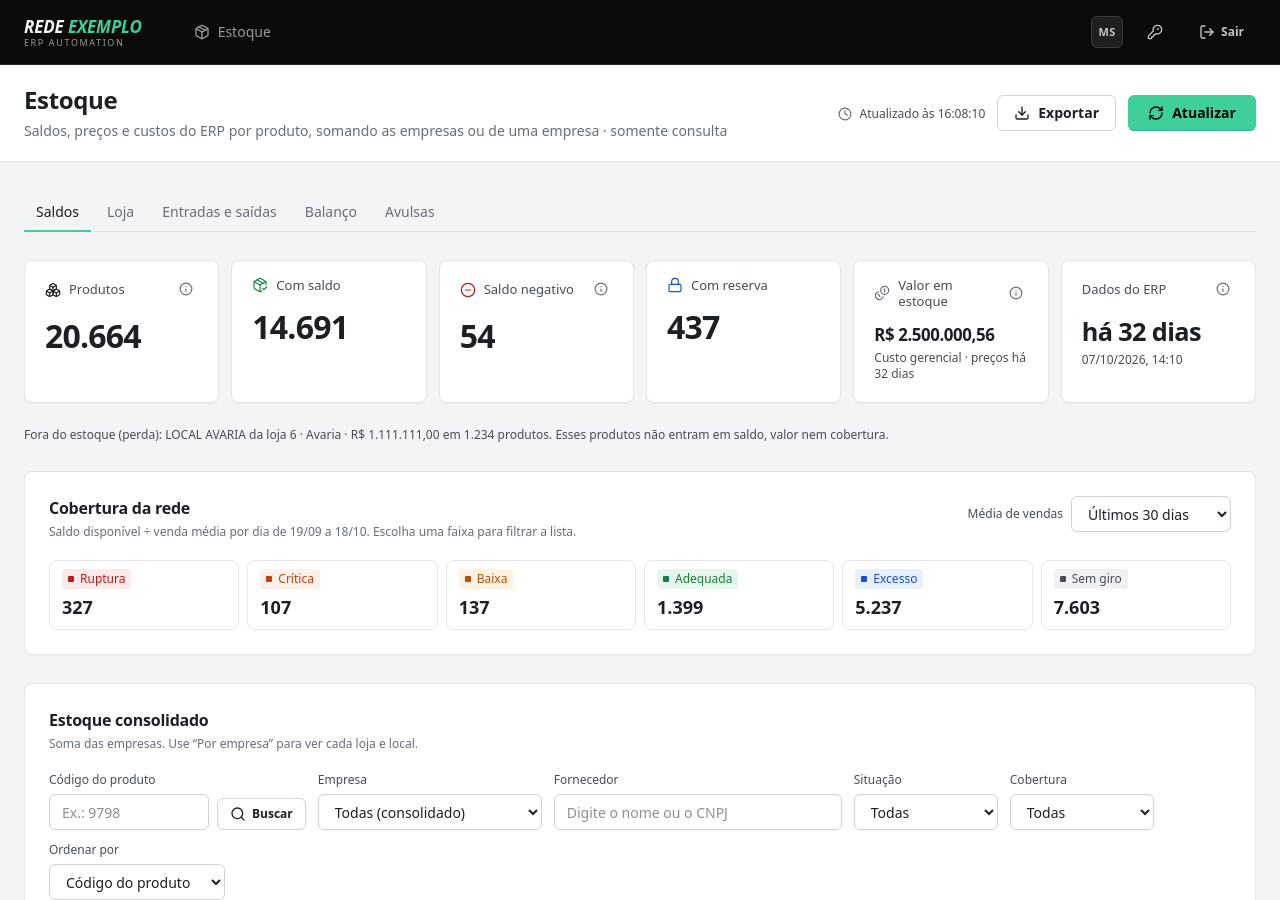
Test: EstoquePage › filtra pelo fornecedor escolhido na lista, pelo CNPJ
The width and height of the screenshot is (1280, 900).
Type "FORNEC" into the search field labelled "Fornecedor" at (698, 812), box [554, 794, 842, 830]
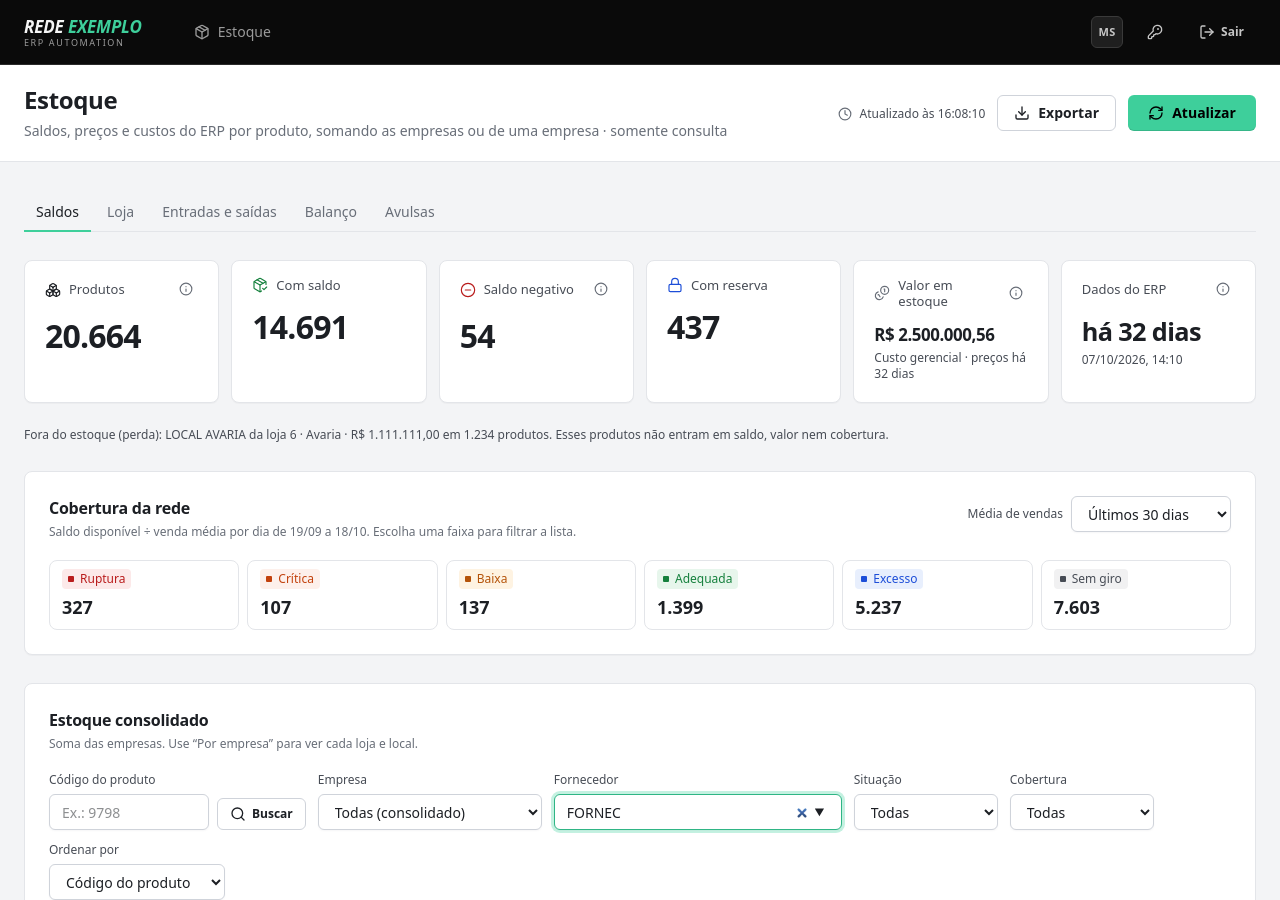
Press Tab
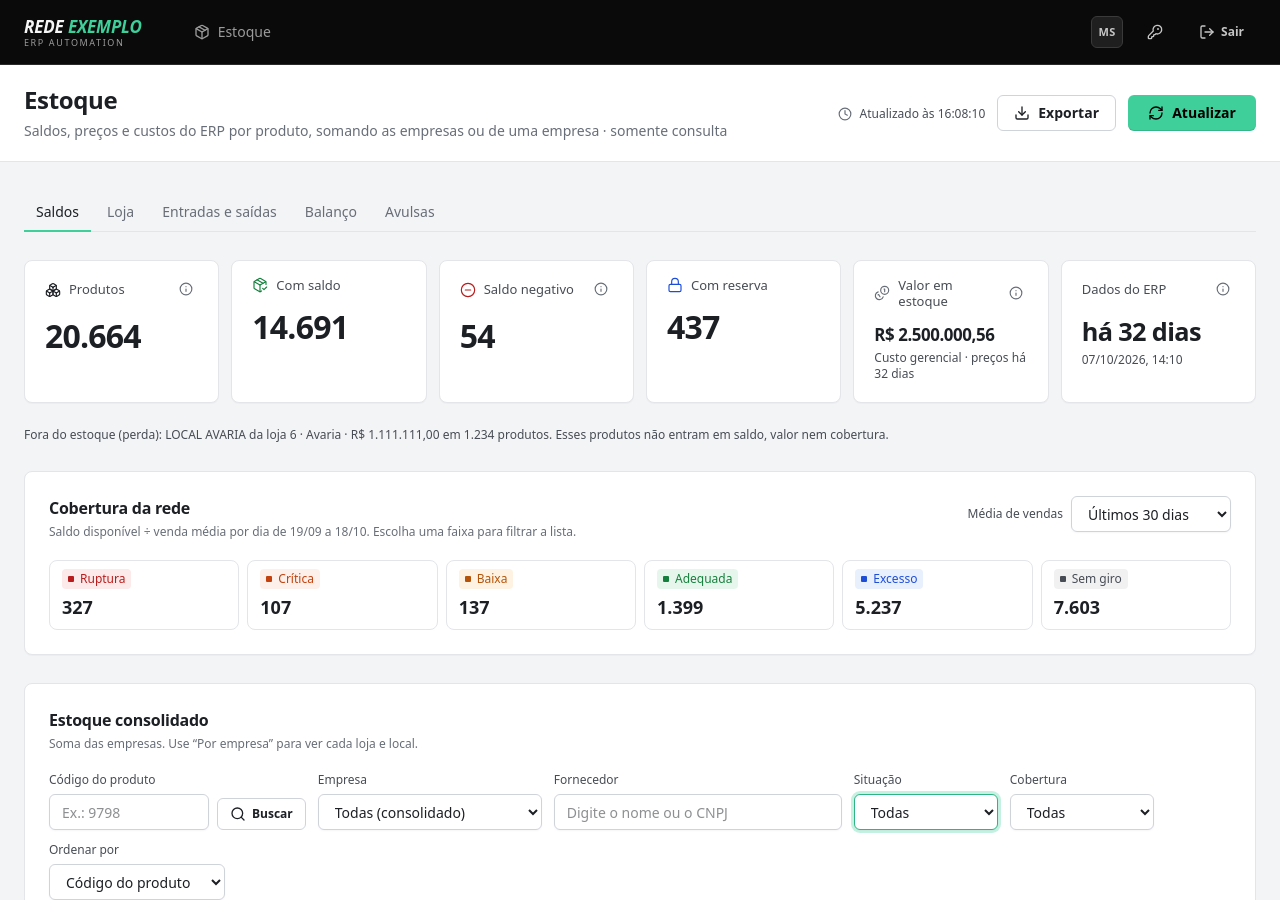
Result: the search field labelled "Fornecedor" is empty
Click the search field labelled "Fornecedor" at (698, 812), box [554, 794, 842, 830]
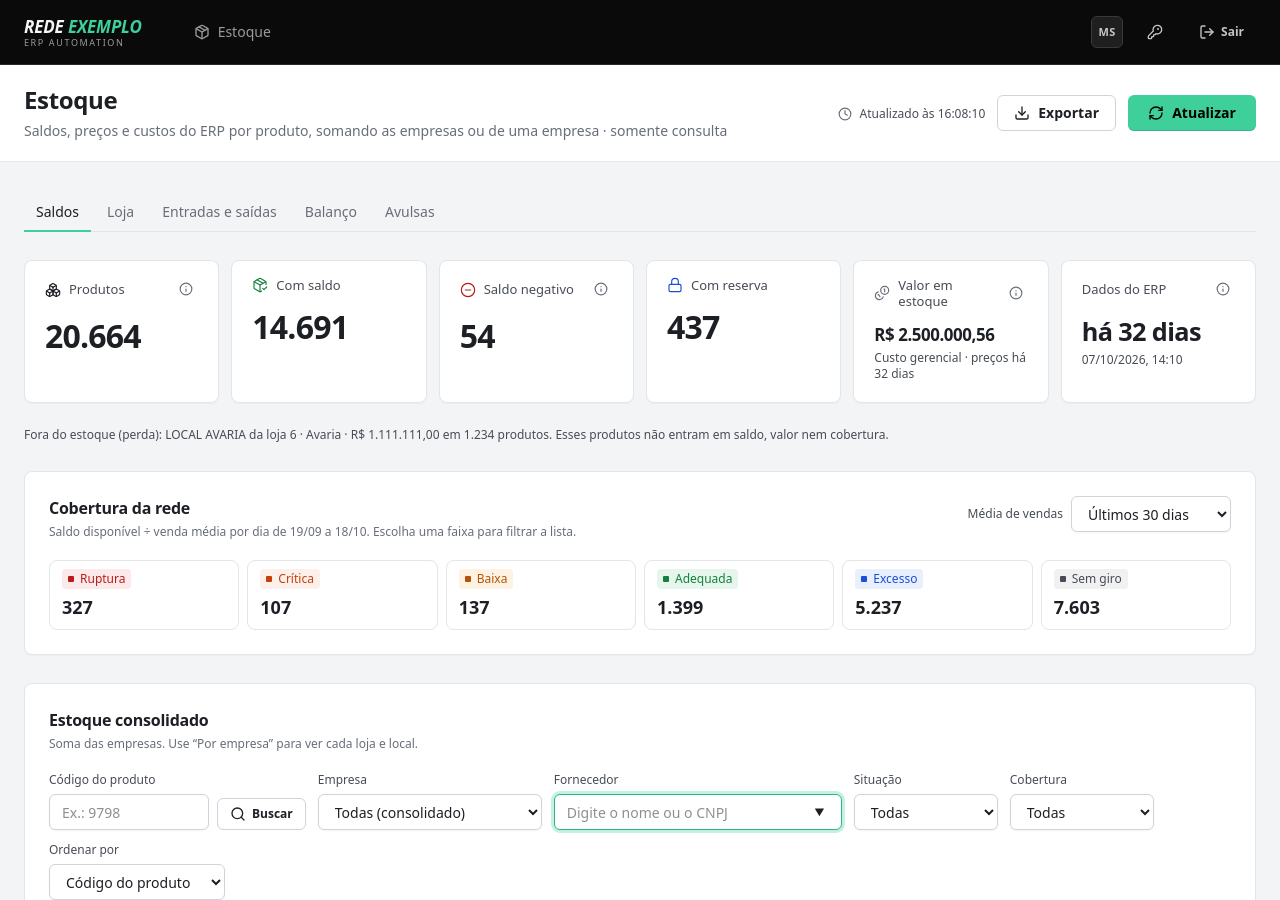
Type keys "FORNECEDOR FICTICIO LTDA · 11.222.333/0001-81"
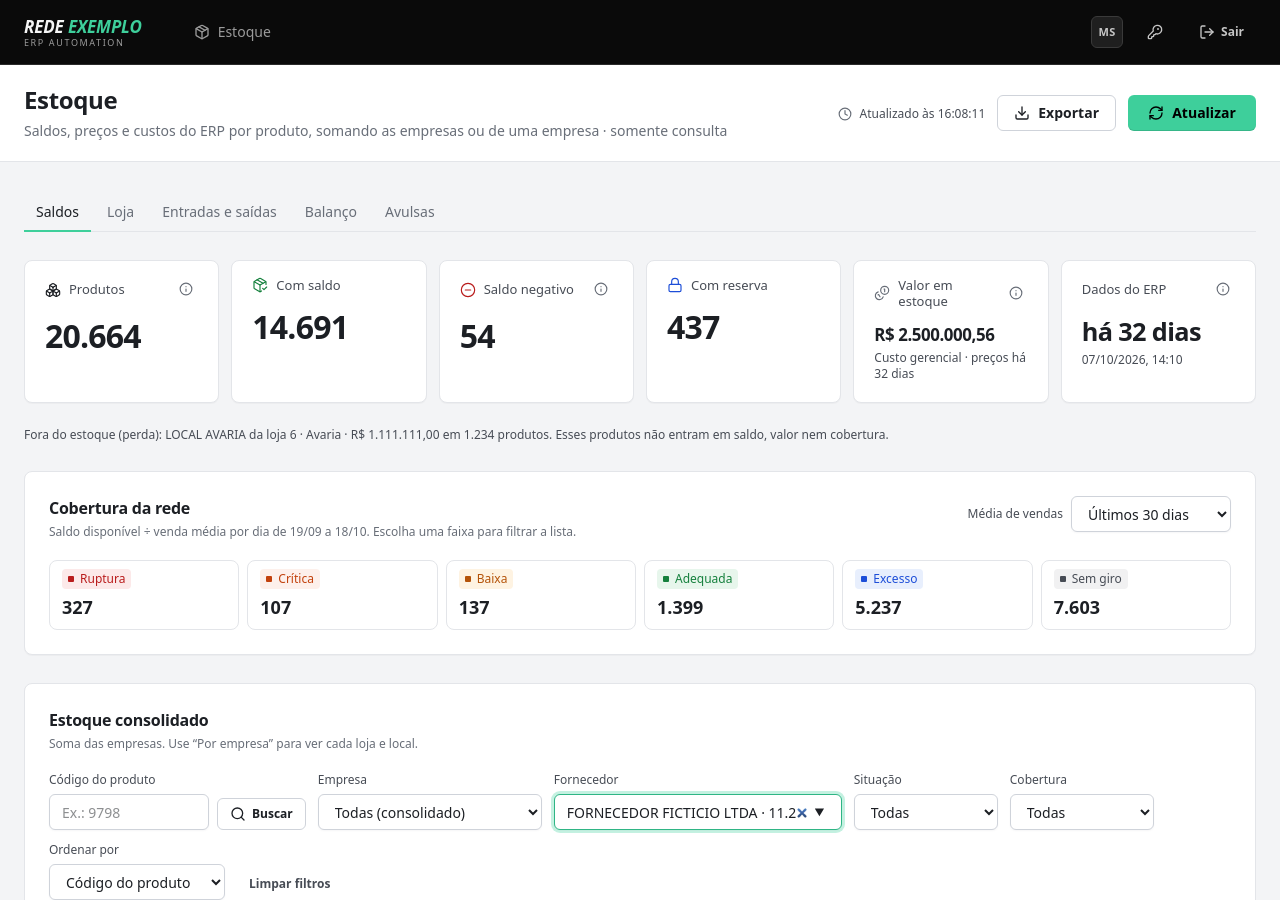
Click the button "Limpar filtros" at (290, 884), box [237, 868, 342, 899]
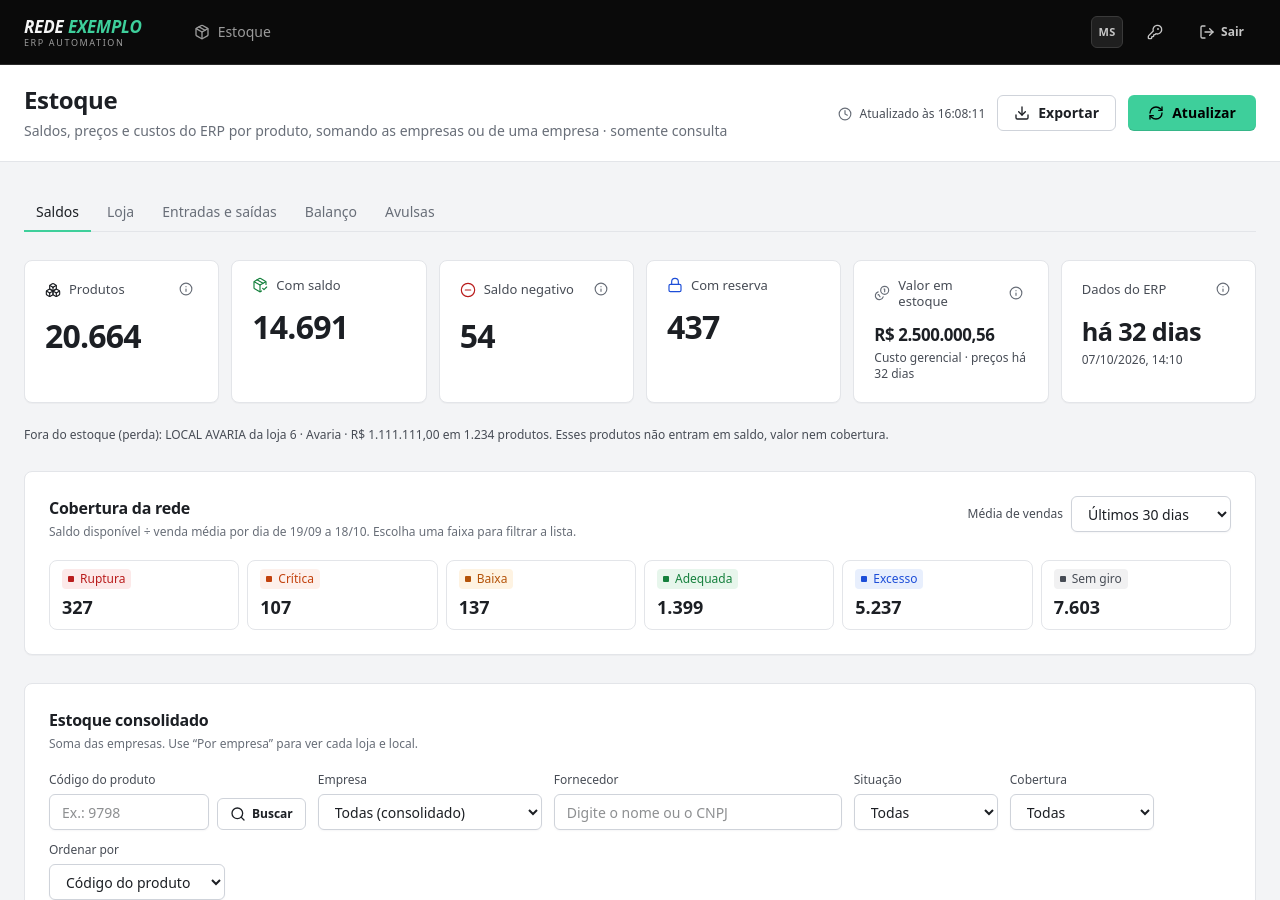
Result: the search field labelled "Fornecedor" is empty at [554, 794, 842, 830]
